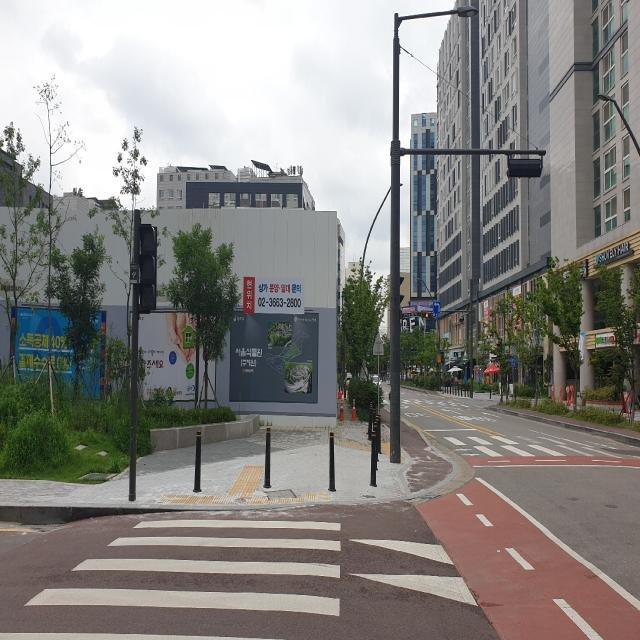횡단보도: (0, 517, 341, 640), (443, 427, 559, 464)
